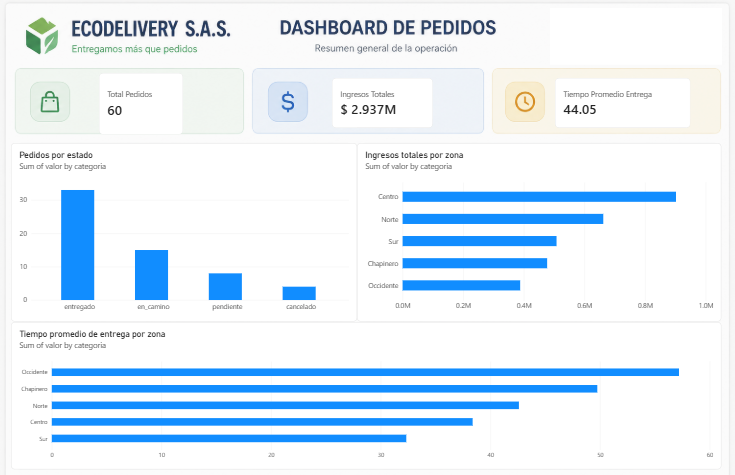

The page's visual inventory and layout, read from the dashboard file:
{"tool":"powerbi","page":{"name":"Page 1","canvas":[1920,1080],"ordinal":0},"visuals":[{"type":"cardVisual","fields":{"Data":["reporte_pedidos.Total Pedidos"]},"box":[402.7,182.4,175.7,128.4],"z":0},{"type":"cardVisual","fields":{"Data":["reporte_pedidos.Ingresos Totales"]},"box":[887.8,194.6,210.8,104.1],"z":1},{"type":"cardVisual","fields":{"Data":["reporte_pedidos.Tiempo Promedio Entrega"]},"box":[1351.4,194.6,282.4,104.1],"z":2},{"type":"clusteredColumnChart","title":"Pedidos por estado ","fields":{"Category":["reporte_pedidos.categoria"],"Y":["Sum(reporte_pedidos.valor)"]},"box":[218,329.5,721.3,372.1],"z":3},{"type":"clusteredBarChart","title":"Ingresos totales por zona","fields":{"Y":["Sum(reporte_pedidos.valor)"],"Category":["reporte_pedidos.categoria"]},"box":[939.2,329.7,759.5,371.6],"z":4},{"type":"clusteredBarChart","title":"Tiempo promedio de entrega por zona","fields":{"Category":["reporte_pedidos.categoria"],"Y":["Sum(reporte_pedidos.valor)"]},"box":[218.2,702,1479.6,306.7],"z":5},{"type":"shape","box":[1342.2,48.9,357.8,117.8],"z":6}]}

Visuals, with their boxes on the page's 1920x1080 design canvas (x1, y1, x2, y2). These are canvas units, not pixel positions in the 735x475 screenshot, which may show the page scaled, cropped or inside an application window:
cardVisual - reporte_pedidos.Total Pedidos: 403,182,578,311
cardVisual - reporte_pedidos.Ingresos Totales: 888,195,1099,299
cardVisual - reporte_pedidos.Tiempo Promedio Entrega: 1351,195,1634,299
"Pedidos por estado " clusteredColumnChart: 218,330,939,702
"Ingresos totales por zona" clusteredBarChart: 939,330,1699,701
"Tiempo promedio de entrega por zona" clusteredBarChart: 218,702,1698,1009
shape: 1342,49,1700,167
